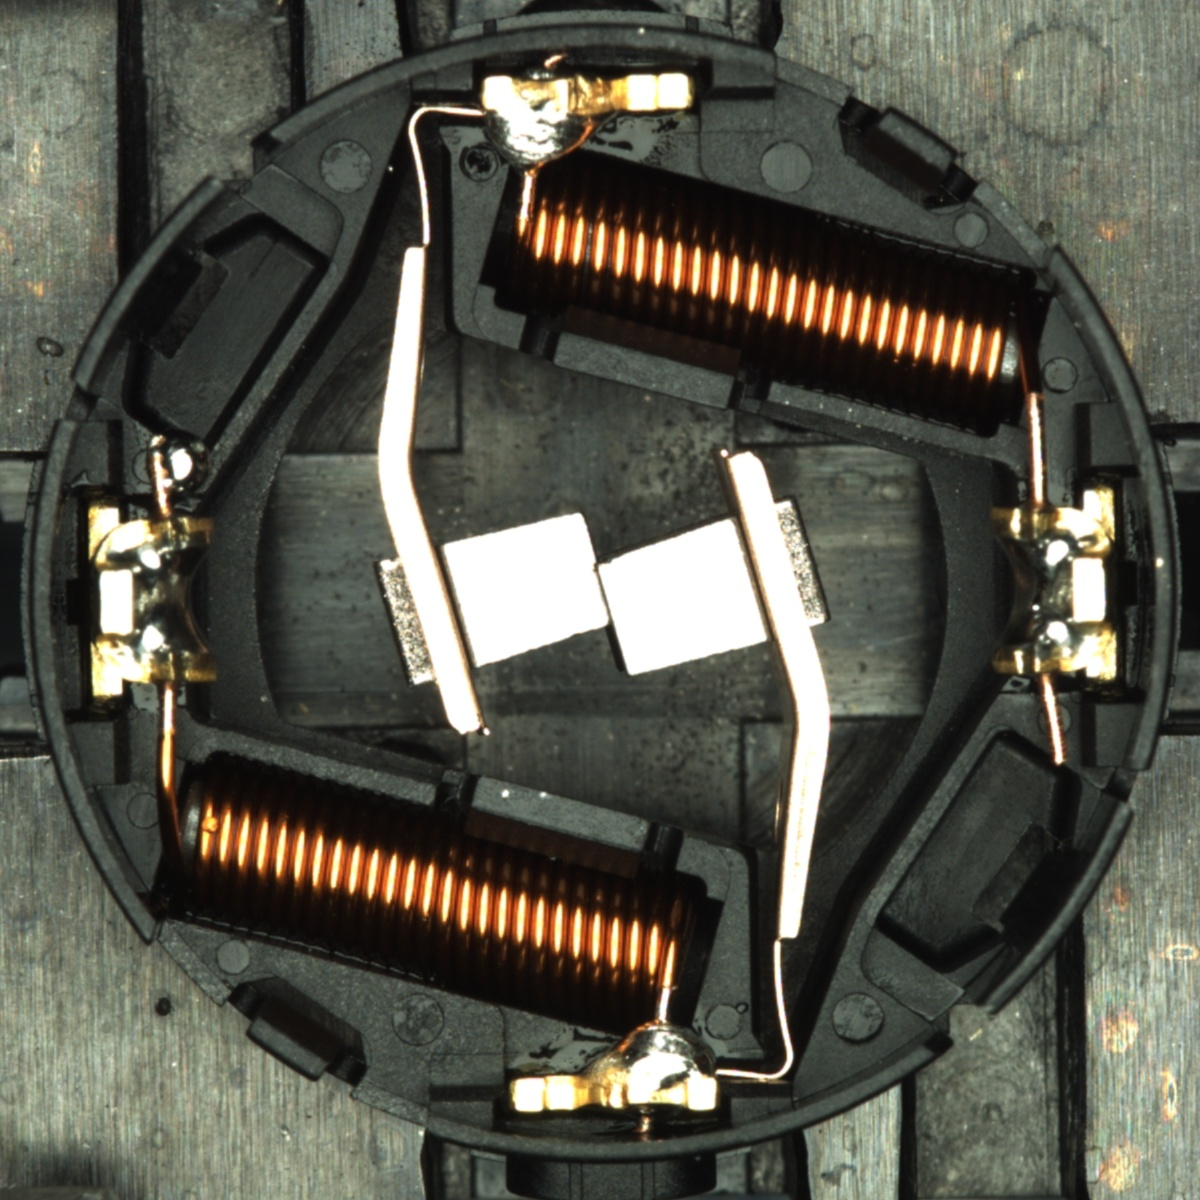1: (255, 31, 485, 255), (713, 929, 943, 1153)
2: (713, 31, 943, 255), (255, 929, 485, 1153)
3: (943, 704, 1173, 929)
4: (255, 255, 485, 480), (713, 704, 943, 929)
5: (485, 143, 713, 368), (485, 816, 713, 1041)
6: (713, 255, 943, 480), (255, 704, 485, 929)
7: (943, 255, 1173, 480), (26, 704, 255, 929)
cacbon: (401, 498, 797, 686)
chau_dien: (81, 499, 221, 700), (984, 488, 1124, 687)
hat_chi: (162, 433, 211, 497)
tay_choi: (479, 73, 696, 173), (509, 1018, 721, 1115)
thanh_de: (955, 787, 1141, 1031), (59, 164, 244, 404)
